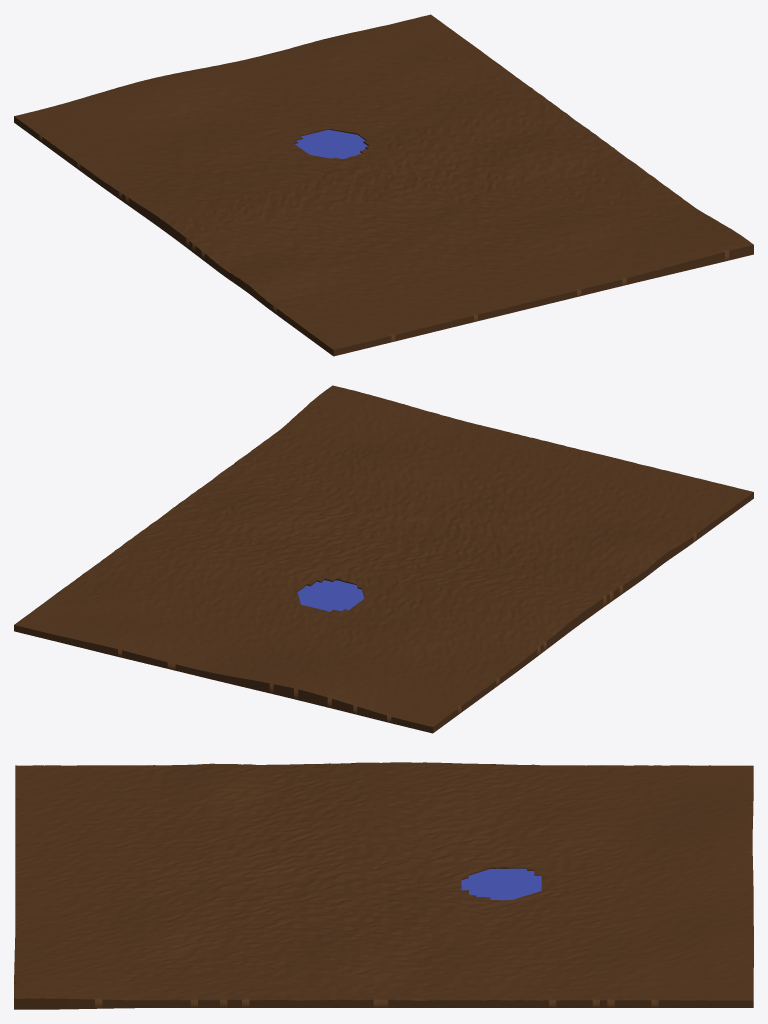
File: ground.glb
The picture shows the model from 3 angles, top to bottom: view 1: azimuth 30°, elevation 25°; view 2: azimuth 150°, elevation 25°; view 3: azimuth 270°, elevation 25°; orthographic projection. The views are drawn at different scales.
Parts seen in each view (by area): view 1: Plane, Icosphere.001; view 2: Plane, Icosphere.001; view 3: Plane, Icosphere.001.
Part boxes in pixels (bbox=[...]): Plane: bbox=[14, 14, 753, 356]; Icosphere.001: bbox=[295, 129, 367, 159]; Plane: bbox=[14, 385, 753, 733]; Icosphere.001: bbox=[297, 580, 364, 611]; Plane: bbox=[14, 762, 753, 1009]; Icosphere.001: bbox=[461, 868, 541, 900].
Bounding box in the file's own units: 93.77 × 2.44 × 124.
